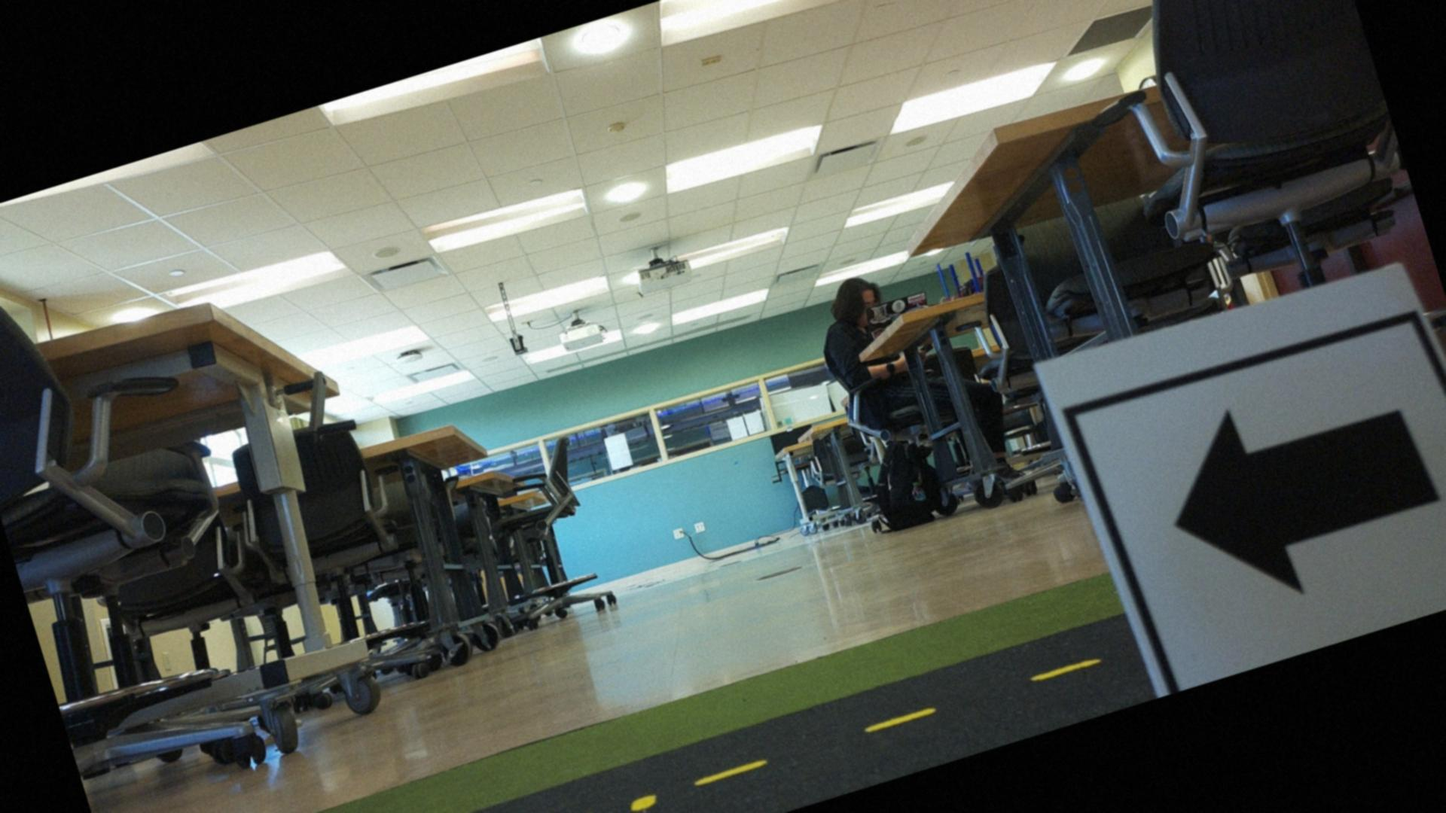turnright: (1075, 309, 1445, 696)
yellowline: (132, 649, 1103, 812), (602, 787, 679, 812)
